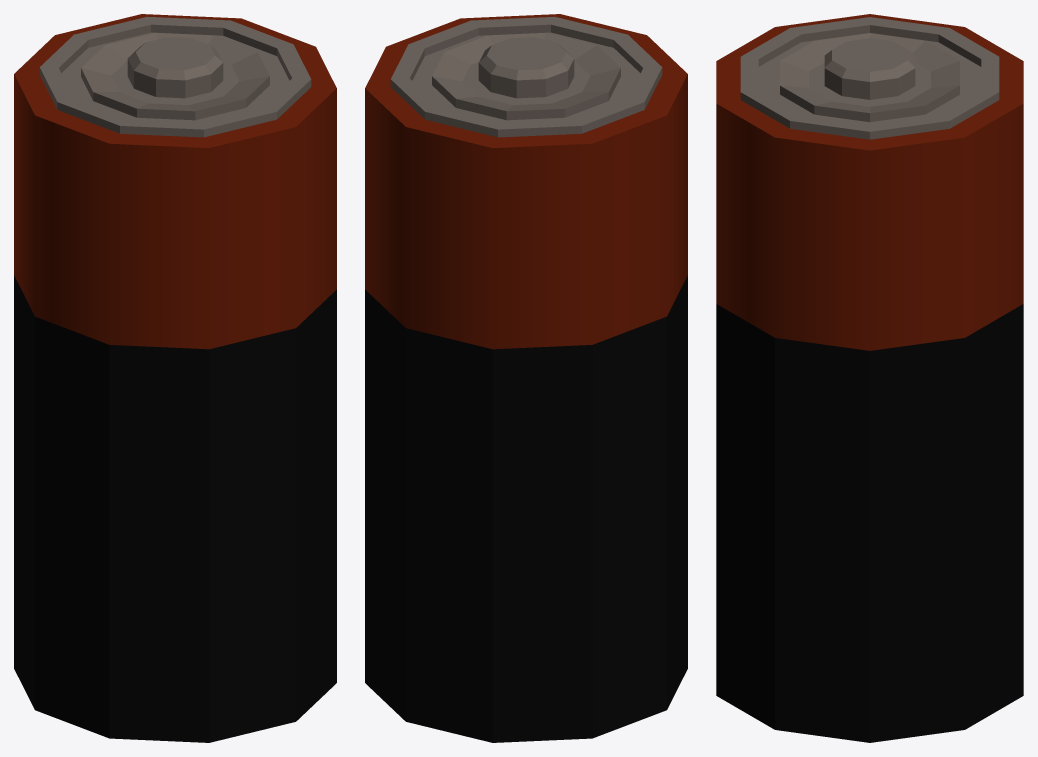
Rendered from Pile.FBX.
3 views of the same model, side by side, from view 1: azimuth 30°, elevation 25°; view 2: azimuth 150°, elevation 25°; view 3: azimuth 270°, elevation 25° (orthographic).
Visible parts, largest first — view 1: Cylindre001; view 2: Cylindre001; view 3: Cylindre001.
Boxes of the visible parts, x1=… form: Cylindre001: x1=14, y1=14, x2=336, y2=742; Cylindre001: x1=365, y1=14, x2=687, y2=742; Cylindre001: x1=716, y1=14, x2=1023, y2=742.
Size of the model in its own units: 41.39 by 87.54 by 39.36.
